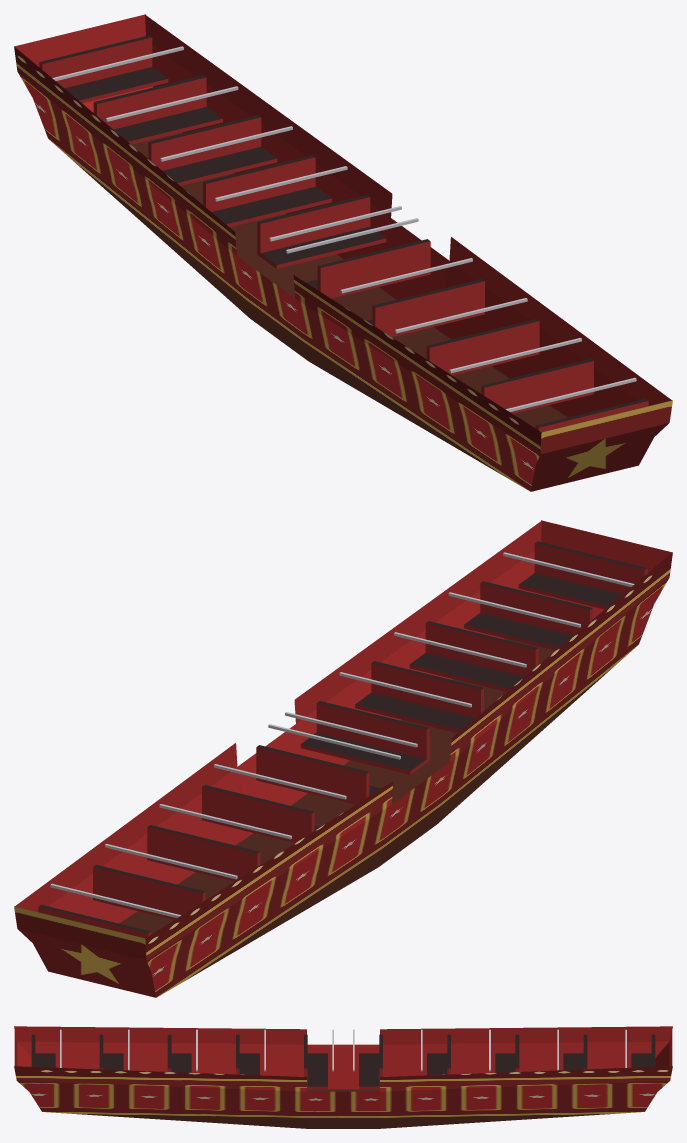
Rendered from 02_SuperViking_Tex2.glb.
The picture shows the model from 3 angles, top to bottom: view 1: azimuth 30°, elevation 25°; view 2: azimuth 150°, elevation 25°; view 3: azimuth 270°, elevation 25°; orthographic projection. The views are drawn at different scales.
Visible parts, largest first — view 1: 02_SuperViking; view 2: 02_SuperViking; view 3: 02_SuperViking.
Part boxes in pixels (x1=…): 02_SuperViking: x1=14, y1=14, x2=672, y2=491; 02_SuperViking: x1=14, y1=520, x2=672, y2=997; 02_SuperViking: x1=14, y1=1026, x2=672, y2=1128.
Bounding box in the file's own units: 2.4 × 1.47 × 13.91.
1 material, 1 textured.
